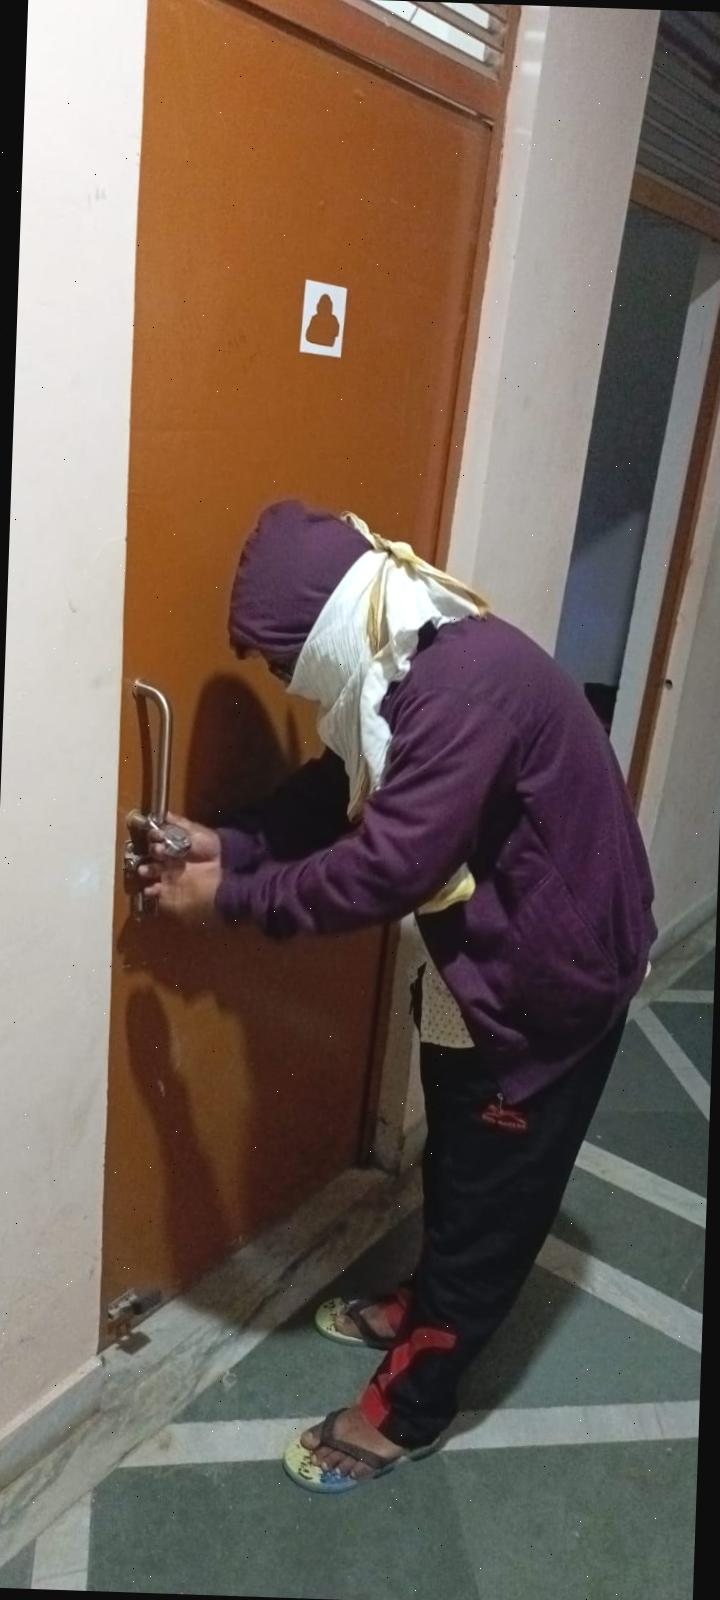suspicion: (35, 476, 720, 1532), (145, 468, 701, 1521)
